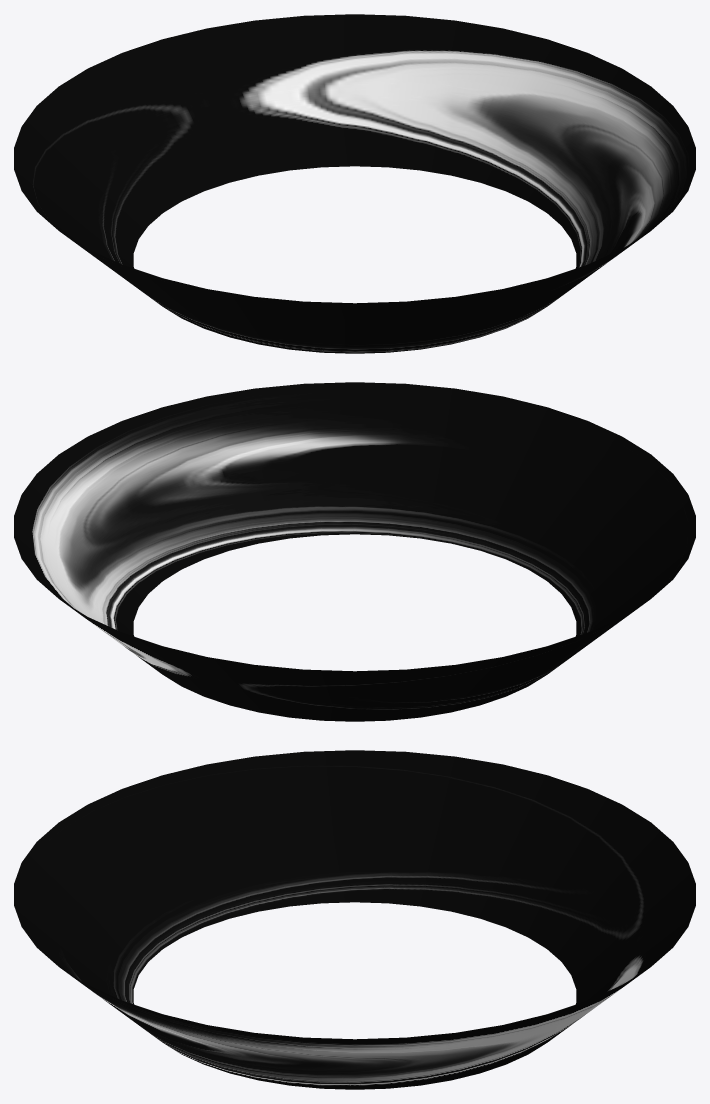
Rendered from 0496_yuanpan01.glb.
3 renders of one model, top to bottom at view 1: azimuth 30°, elevation 25°; view 2: azimuth 150°, elevation 25°; view 3: azimuth 270°, elevation 25°, orthographic.
Size of the model in its own units: 2.2 by 0.3597 by 2.19.
Materials: 1 (1 with a texture image).
